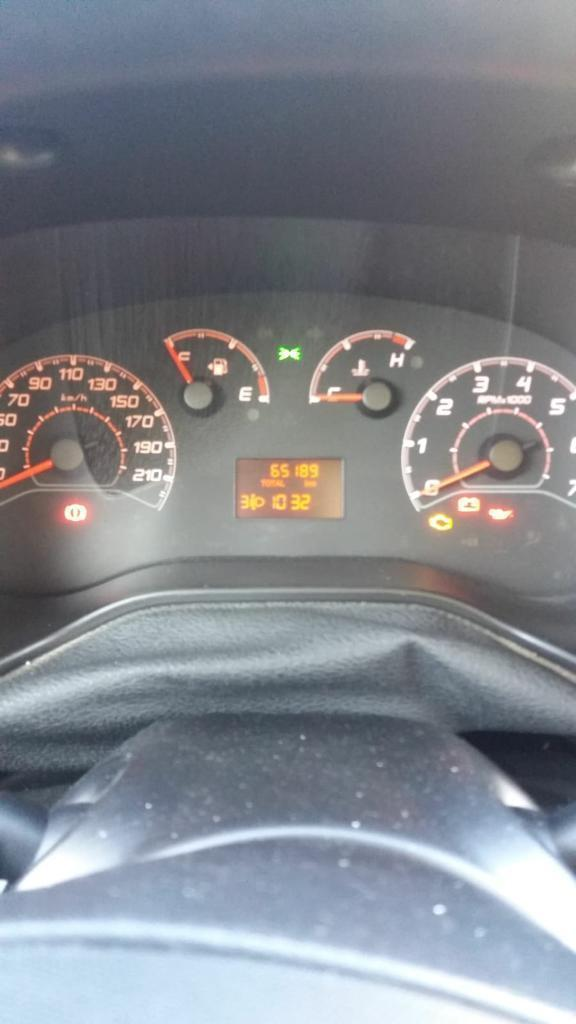0: (276, 493, 287, 510)
1: (271, 495, 276, 510), (295, 465, 298, 477)
2: (300, 493, 311, 510)
3: (289, 493, 300, 510), (239, 494, 249, 509)
5: (279, 463, 289, 477)
6: (270, 463, 279, 477)
8: (299, 464, 308, 477)
9: (309, 463, 318, 477)
X: (264, 478, 270, 488), (280, 479, 286, 488), (270, 479, 275, 488), (275, 479, 279, 488), (260, 479, 264, 487)
odometer: (233, 456, 344, 520)
